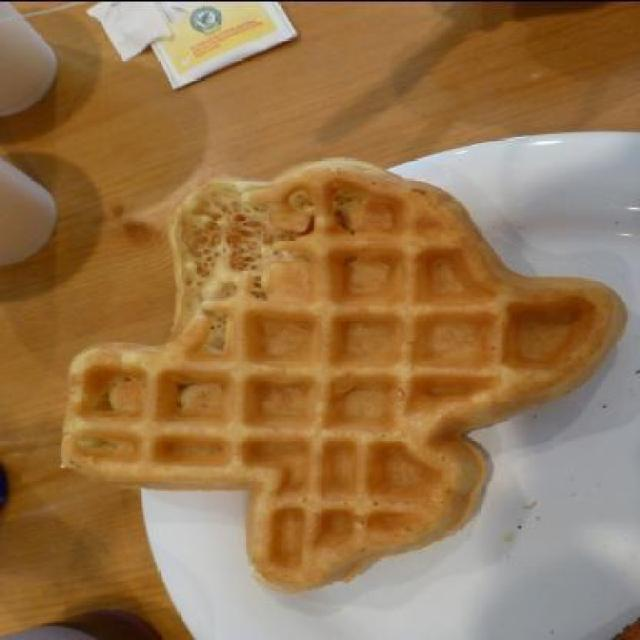Waffle: (58, 155, 632, 594)
